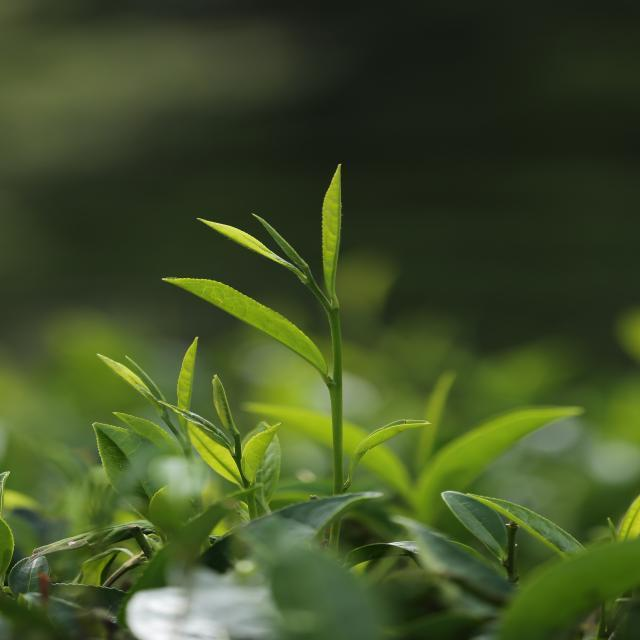Stem: (327, 309, 340, 325), (184, 446, 193, 455), (234, 455, 242, 462)
